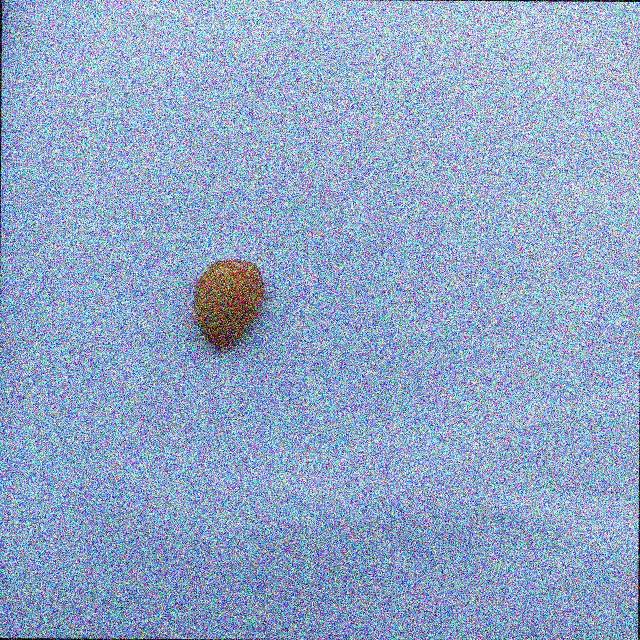grade2: (190, 256, 271, 353)
